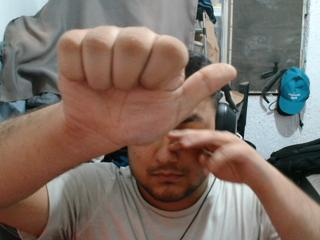Izquierda: (49, 20, 243, 162)
